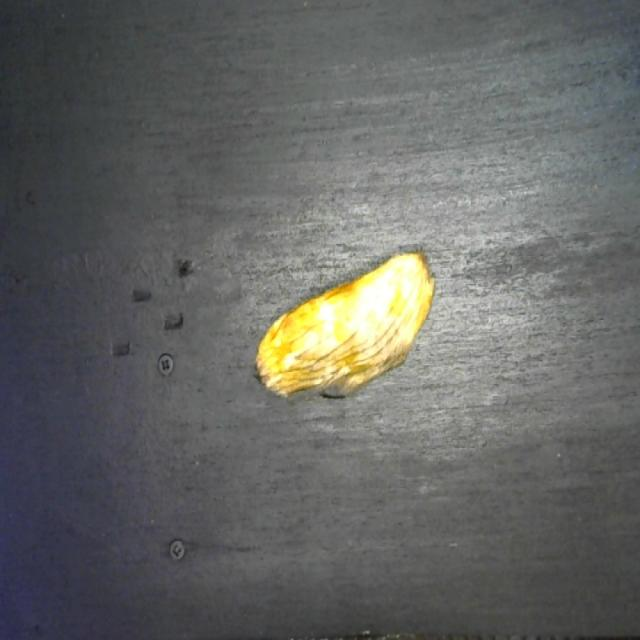biodegradable: (250, 235, 439, 412)
